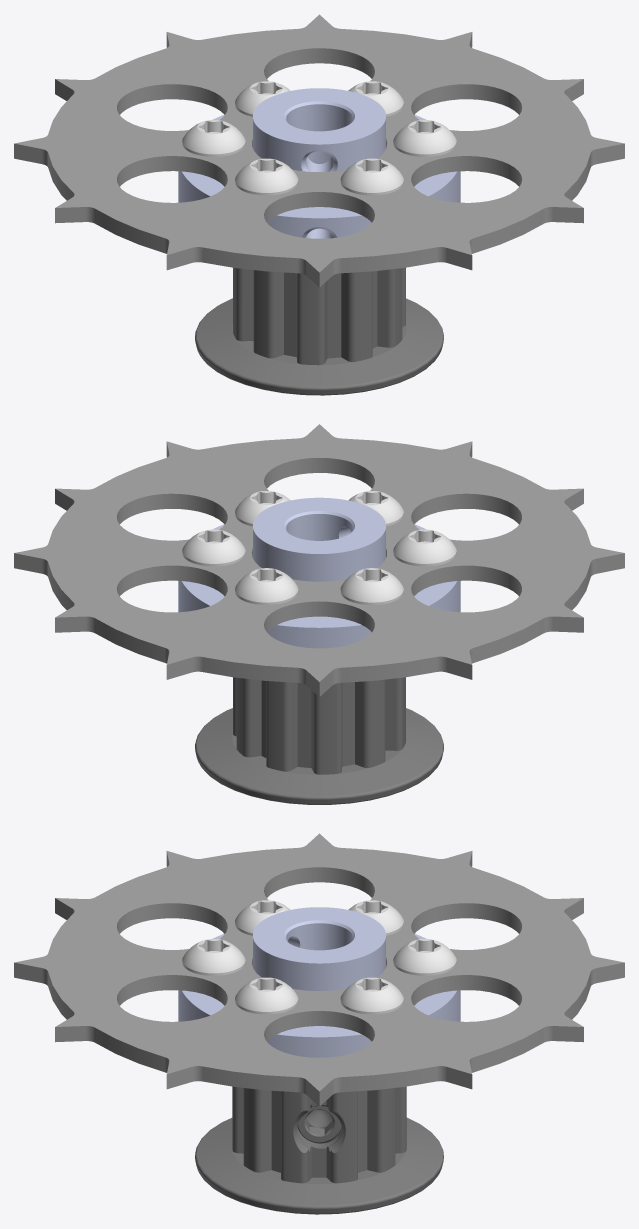
The model's file is Mrs. Buff Wheel Parts.dae.
The picture shows the model from 3 angles, top to bottom: view 1: azimuth 30°, elevation 25°; view 2: azimuth 150°, elevation 25°; view 3: azimuth 270°, elevation 25°; orthographic projection.
Parts seen in each view (by area): view 1: Mrs Buff Cleat Wheel, Mrs. Buff Wheel Parts, Shaft Hub-6mm M3, Button Head Torx Screw M3 X 6 Class 8.8 Zinc Plate (×6); view 2: Mrs Buff Cleat Wheel, Mrs. Buff Wheel Parts, Shaft Hub-6mm M3, Button Head Torx Screw M3 X 6 Class 8.8 Zinc Plate (×6); view 3: Mrs Buff Cleat Wheel, Mrs. Buff Wheel Parts, Shaft Hub-6mm M3, Button Head Torx Screw M3 X 6 Class 8.8 Zinc Plate (×6), 632134_91375A436.
Boxes of the visible parts, x1,y1,x2,y2 form: Mrs Buff Cleat Wheel: (14, 14, 624, 287); Mrs. Buff Wheel Parts: (195, 267, 443, 395); Shaft Hub-6mm M3: (178, 88, 460, 238); Button Head Torx Screw M3 X 6 Class 8.8 Zinc Plate (×6): (182, 81, 456, 195); Mrs Buff Cleat Wheel: (14, 424, 624, 696); Mrs. Buff Wheel Parts: (195, 677, 443, 804); Shaft Hub-6mm M3: (178, 497, 460, 648); Button Head Torx Screw M3 X 6 Class 8.8 Zinc Plate (×6): (182, 491, 456, 604); Mrs Buff Cleat Wheel: (14, 833, 624, 1106); Mrs. Buff Wheel Parts: (195, 1086, 443, 1214); Shaft Hub-6mm M3: (178, 907, 460, 1057); Button Head Torx Screw M3 X 6 Class 8.8 Zinc Plate (×6): (182, 900, 456, 1014); 632134_91375A436: (297, 1106, 341, 1143).
Bounding box in the file's own units: 0.055 × 0.055 × 0.0228.
